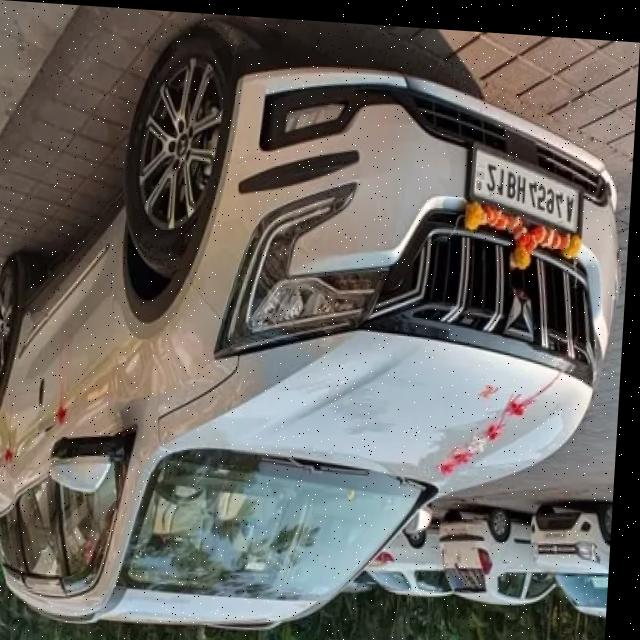plate: (467, 137, 586, 228)
